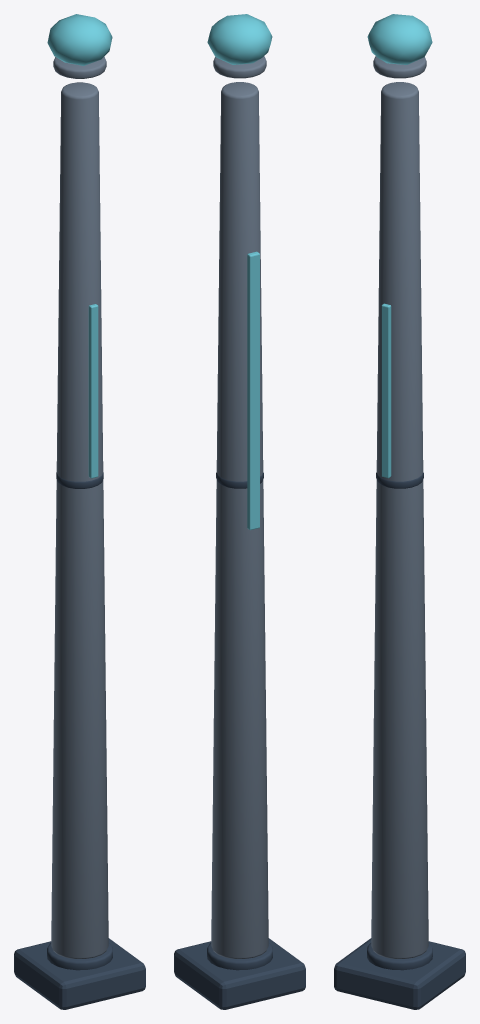
The model's file is Pylon_L.fbx.
3 views of the same model, side by side, from view 1: azimuth 30°, elevation 25°; view 2: azimuth 210°, elevation 25°; view 3: azimuth 330°, elevation 25° (orthographic).
Visible parts, largest first — view 1: Pylon_L; view 2: Pylon_L; view 3: Pylon_L.
Part boxes in pixels (bbox=[...]): Pylon_L: bbox=[14, 14, 145, 1009]; Pylon_L: bbox=[174, 14, 305, 1009]; Pylon_L: bbox=[334, 14, 465, 1009].
Size of the model in its own units: 0.9 by 9.62 by 0.9.
